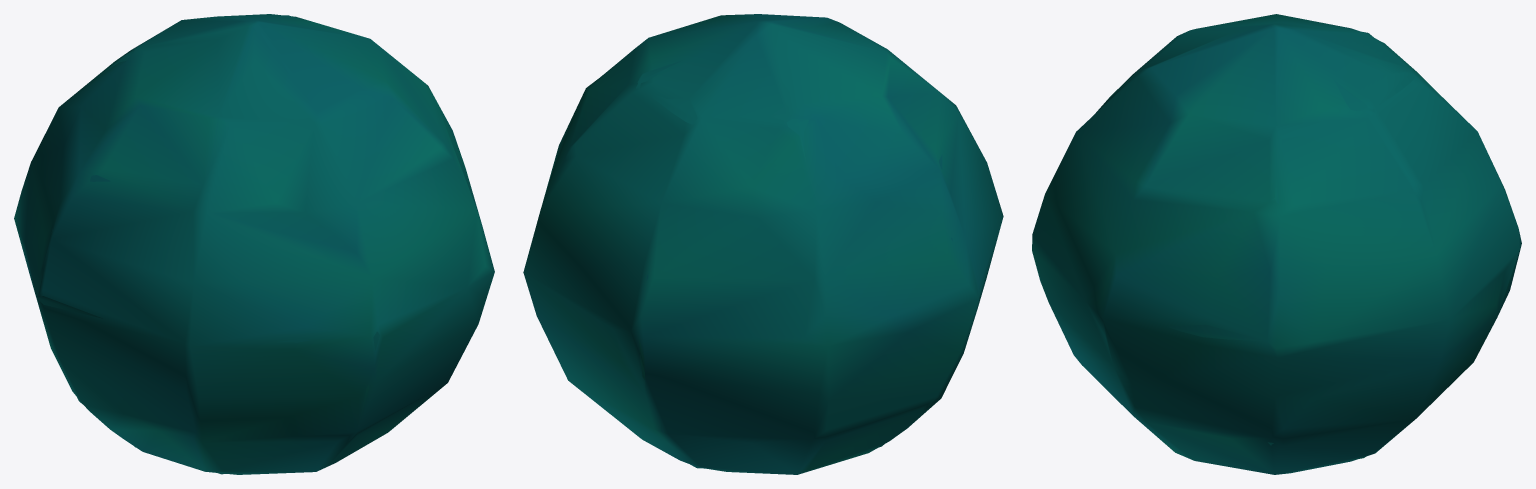
The model's file is gen3d-orb-lod1.glb.
3 views of the same model, side by side, from view 1: azimuth 30°, elevation 25°; view 2: azimuth 150°, elevation 25°; view 3: azimuth 270°, elevation 25° (orthographic).
Visible parts, largest first — view 1: part_0; view 2: part_0; view 3: part_0.
Boxes of the visible parts, x1,y1,x2,y2 form: part_0: (14,14,494,474); part_0: (523,14,1003,474); part_0: (1032,14,1521,474).
Size of the model in its own units: 1.01 by 0.9916 by 1.01.
